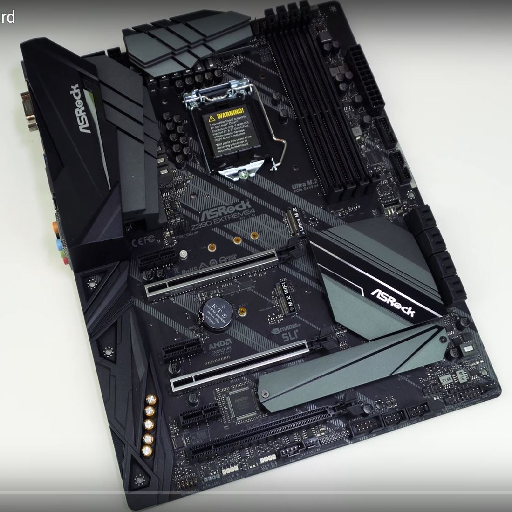CPU: (187, 78, 265, 181)
GPU: (184, 387, 364, 464), (169, 323, 339, 396), (144, 238, 305, 303)
MOTHERBOARD: (19, 1, 500, 506)
RAM: (264, 2, 376, 209)
SSD: (273, 278, 296, 316), (286, 204, 308, 242)
